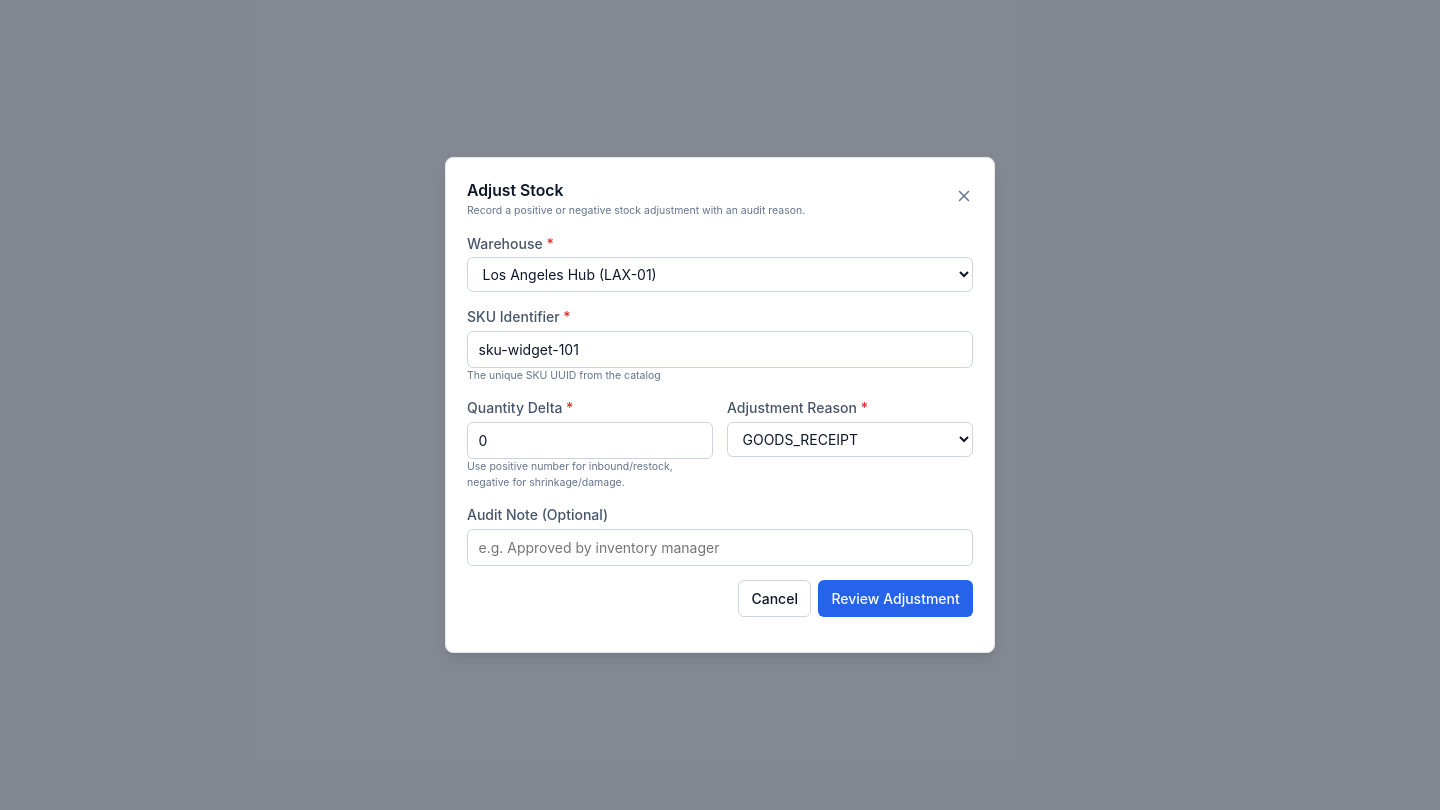
Test: StockAdjustmentModal › validates quantity delta cannot be zero
The image size is (1440, 810).
Click the button "Review Adjustment" at [896, 598], box 818,580 -> 973,617
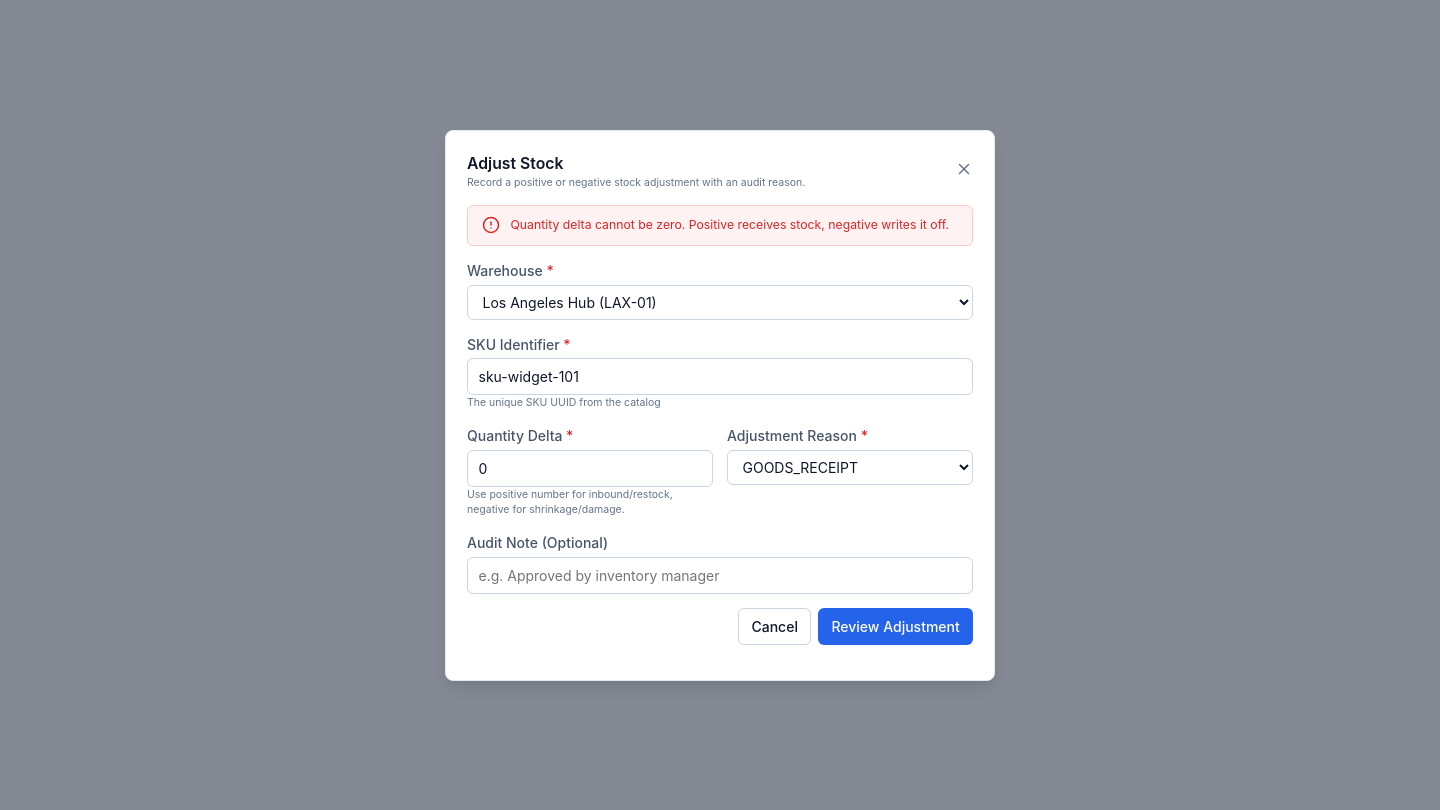
Now the text "Quantity delta cannot be zero" is shown, box 510,217 -> 949,232
